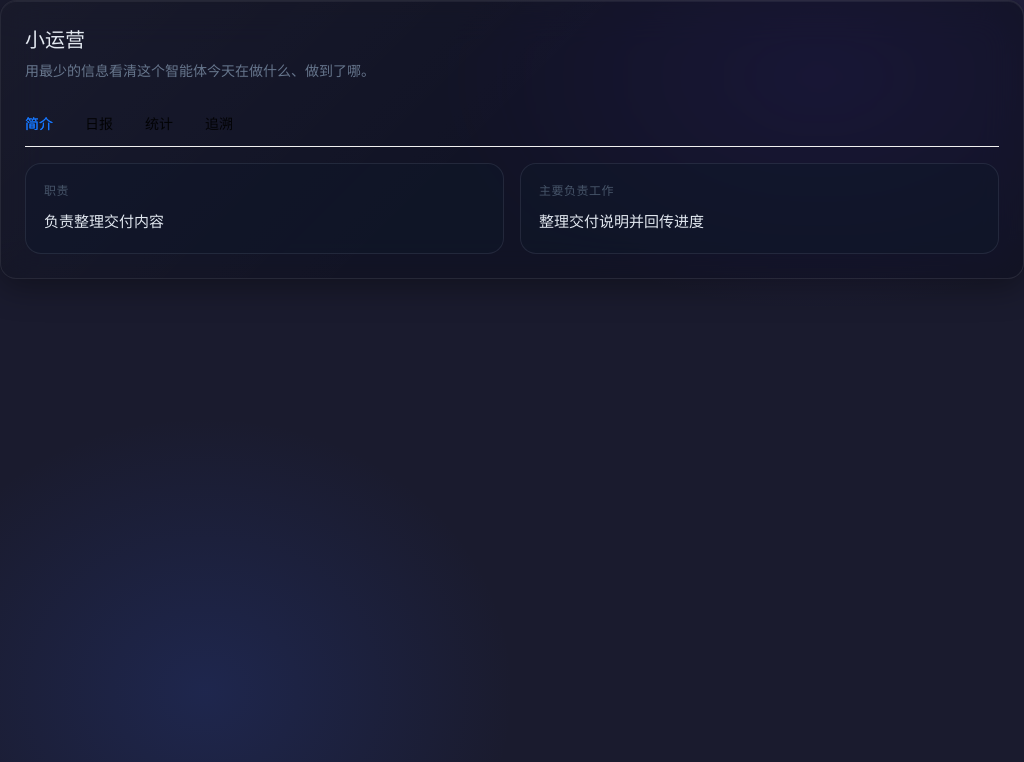
Test: AgentWorkPanel › shows the evening report first at night and keeps the morning report collapsed
The image size is (1024, 762).
Click the tab "日报". click: [99, 124]
box: 85,113 -> 113,135
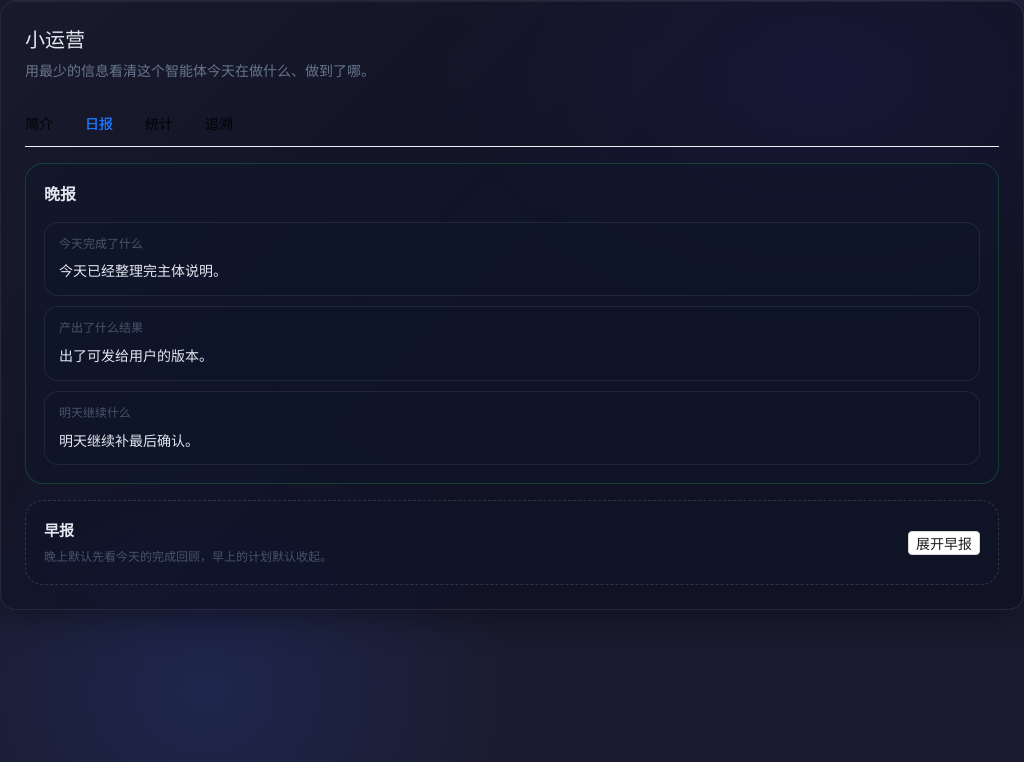
Expected: the text "今天先整理交付说明。" is not shown
Now the text "今天已经整理完主体说明。" is shown, box 59,262 -> 227,279
Click the button "展开早报". click: [944, 543]
box: 908,531 -> 980,555
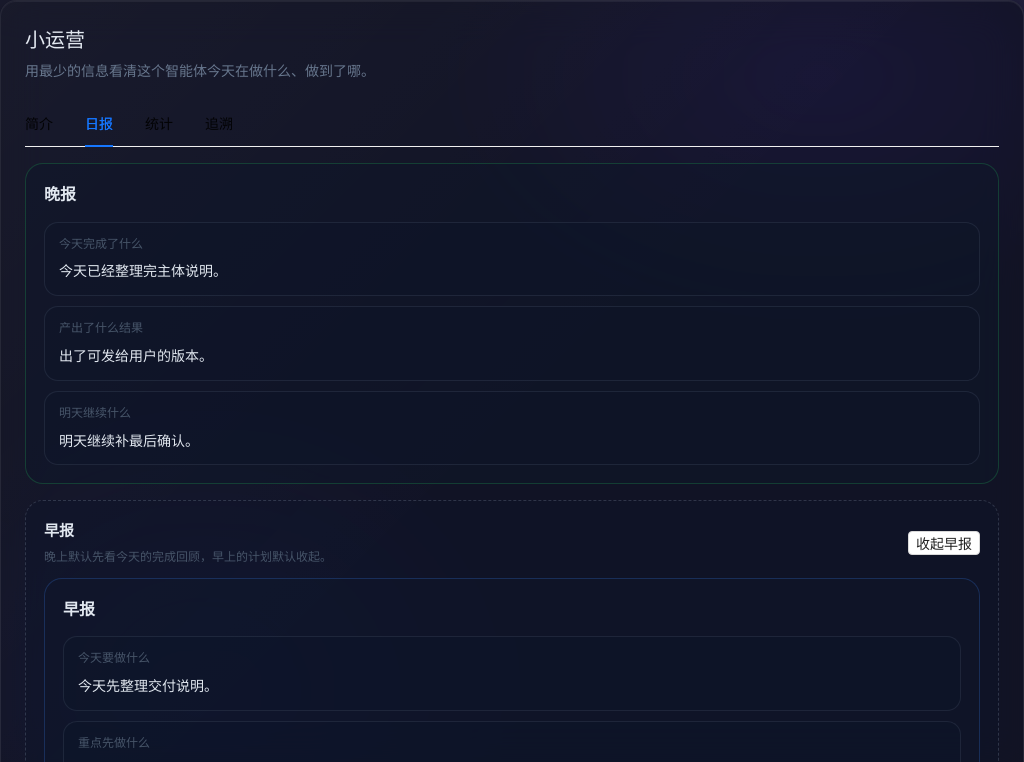
Now the text "今天先整理交付说明。" is shown, box 78,677 -> 218,694
